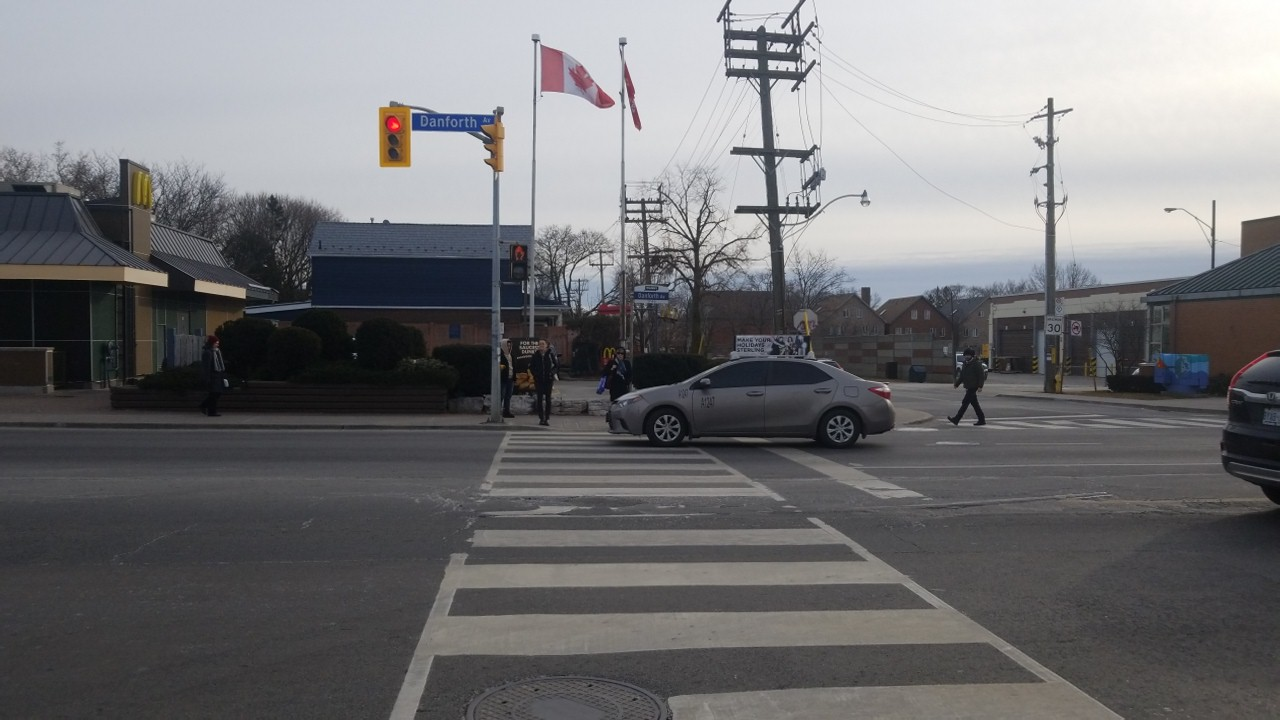light: (507, 241, 530, 281)
